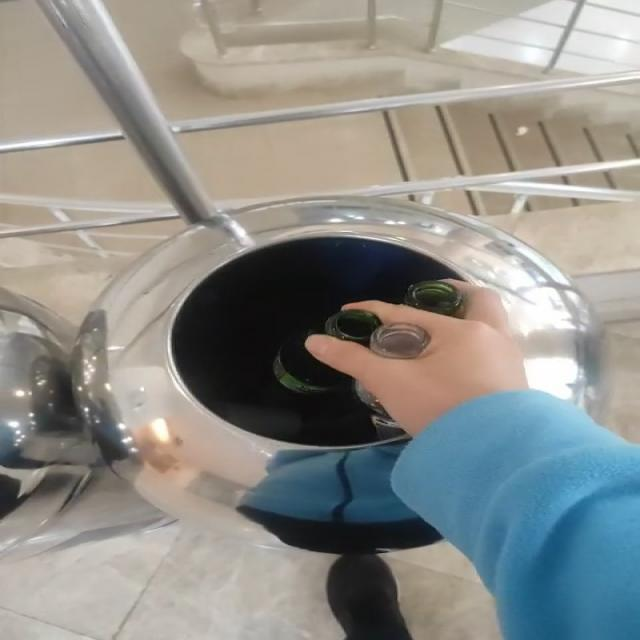Glass: (309, 310, 429, 359), (272, 335, 349, 394), (357, 383, 404, 440), (404, 281, 464, 316)
